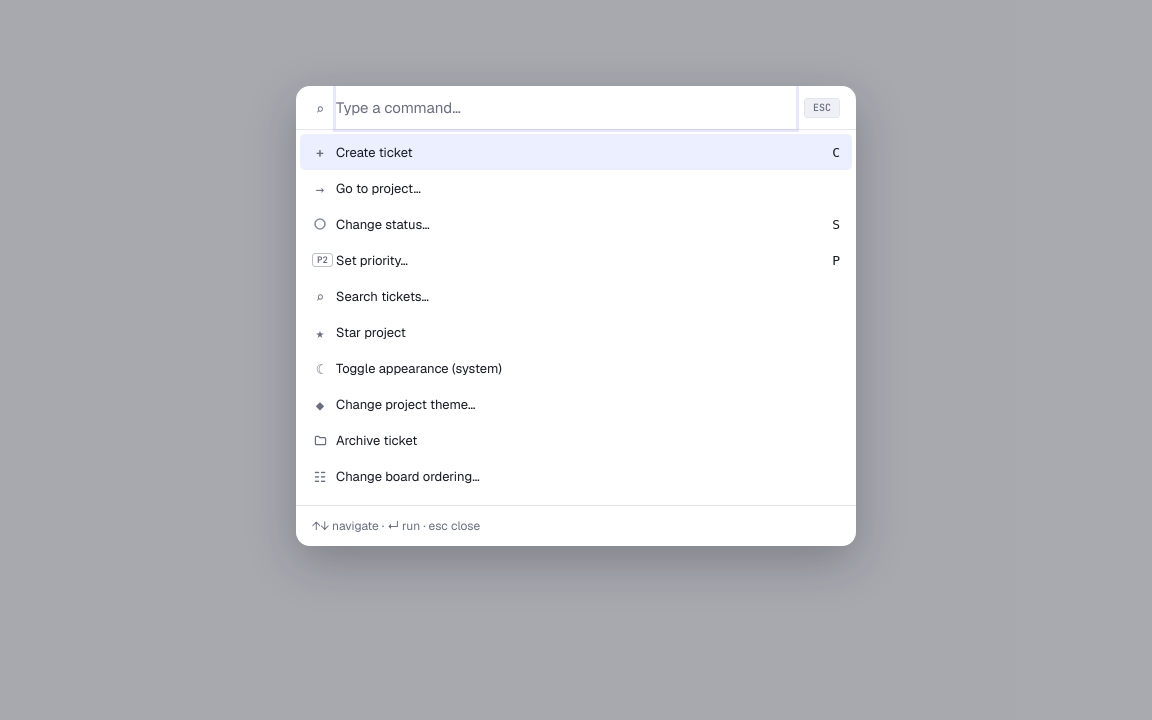
Test: command palette › a ticket key typed at the root › offers the ticket as the first row, keyed and glyphed like a search row
This screenshot has width=1152, height=720.
In the dropdown: [566, 108] box [336,86,796,129], type "lc-60"
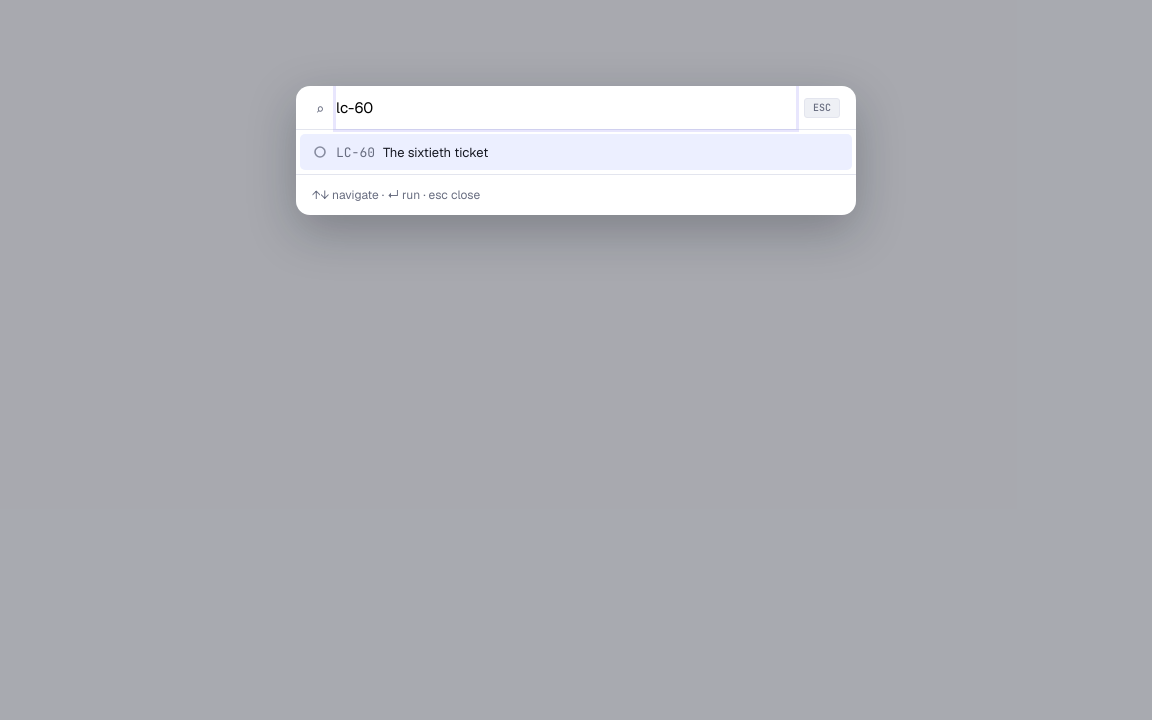
Check: the option shows "LC-60", box [300,134,852,170]
Check: the option shows "The sixtieth ticket", box [300,134,852,170]
Check: the text with class "search-key" reads "LC-60", box [336,144,375,161]
